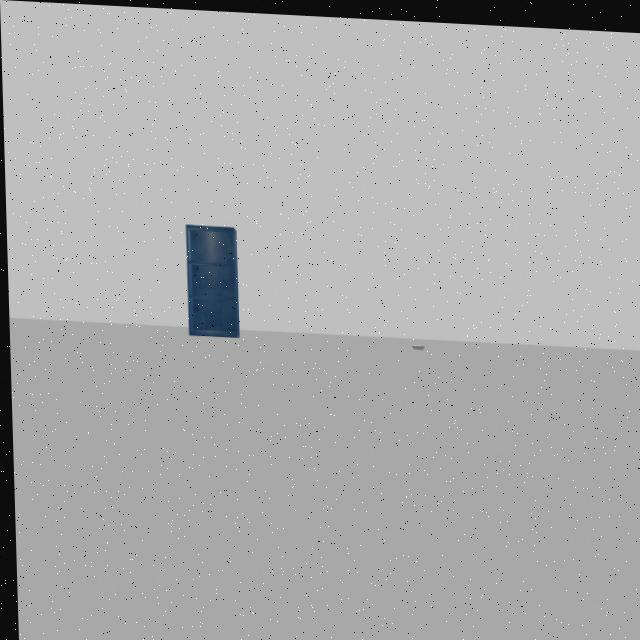bowl: (410, 312, 433, 370)
shelf: (169, 206, 266, 376)
